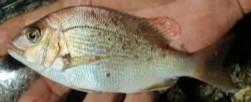fish: (8, 7, 234, 94)
